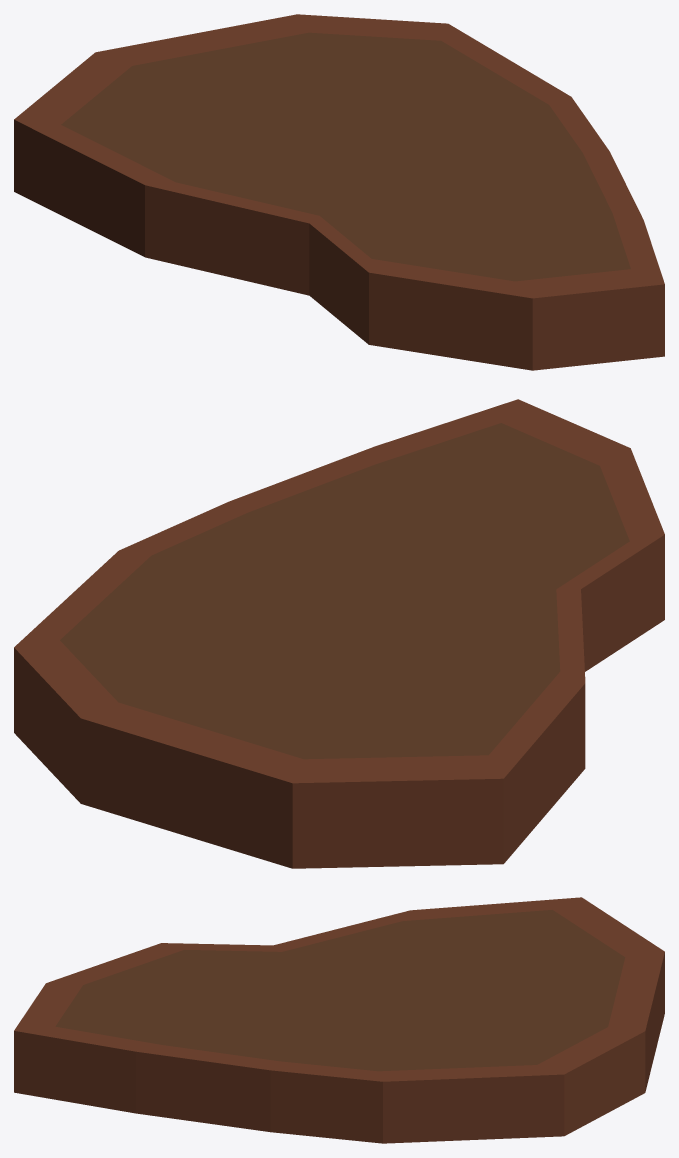
3 views of the same model, one above another, from view 1: azimuth 30°, elevation 25°; view 2: azimuth 150°, elevation 25°; view 3: azimuth 270°, elevation 25° (orthographic). The views are drawn at different scales.
Visible parts, largest first — view 1: CookedMeat; view 2: CookedMeat; view 3: CookedMeat.
Boxes of the visible parts, <box> form: CookedMeat: <box>14,14,664,370</box>; CookedMeat: <box>14,399,664,868</box>; CookedMeat: <box>14,897,664,1143</box>.
Bounding box in the file's own units: 230 × 35.98 × 343.
